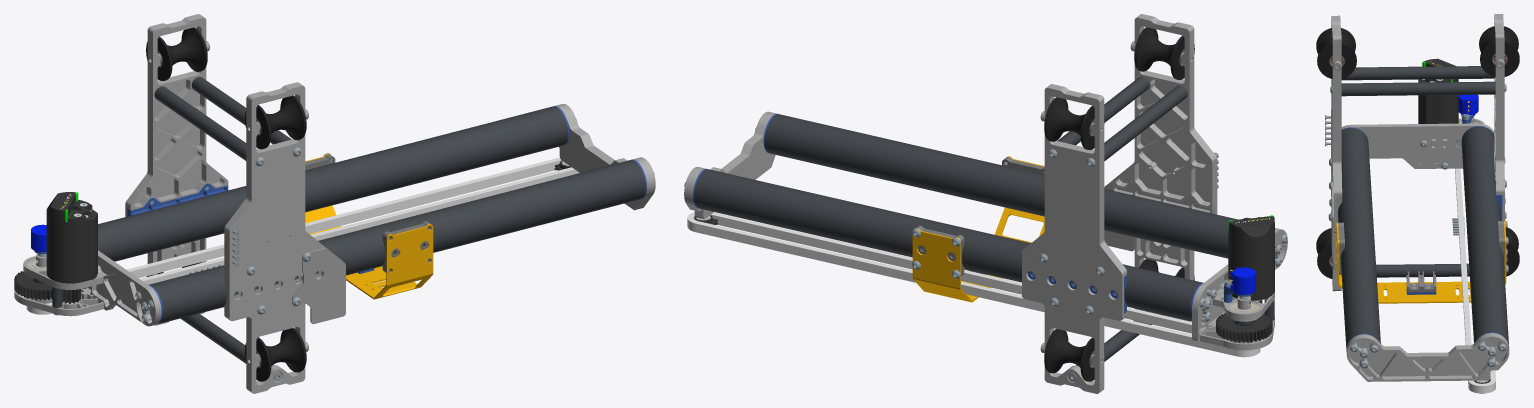
The picture shows the model from 3 angles, left to right: view 1: azimuth 30°, elevation 25°; view 2: azimuth 150°, elevation 25°; view 3: azimuth 270°, elevation 25°; orthographic projection. The views are drawn at different scales.
Parts seen in each view (by area): view 1: Linear Tube (×2), Carrige Plate R, Carrige Plate, Chain - 194 Links, Yoyo Roller Carrige (×3), Kraken X44 Brushless Motor, Cable Chain Support, Carrige Spacer (×3), Part 40, Rear Tie, Front tie, Backpack Gearbox Bottom (+3 smaller); view 2: Linear Tube (×2), Carrige Plate, Carrige Plate R, Chain - 194 Links, Yoyo Roller Carrige (×3), Cable Chain Support, Carrige Spacer (×3), Kraken X44 Brushless Motor, Front tie, Rear Tie, 40t Pocketed Steel Spur Gear (20 DP, 1/2" Hex Bore), Backpack Gearbox Bottom (+4 smaller); view 3: Linear Tube (×2), Front tie, Carrige Spacer (×3), Rear Tie, Yoyo Roller Carrige (×4), Carrige Plate R, Cable Chain Support, Carrige Plate, Kraken X44 Brushless Motor, Chain - 194 Links, Cable Chain Support Buddy Plate (×2), IGUS Chain Connector End (×2) (+2 smaller).
Boxes of the visible parts, x1=… form: Linear Tube (×2): x1=98, y1=106, x2=645, y2=323; Carrige Plate R: x1=224, y1=82, x2=325, y2=393; Carrige Plate: x1=125, y1=14, x2=228, y2=325; Chain - 194 Links: x1=26, y1=157, x2=579, y2=314; Yoyo Roller Carrige (×3): x1=146, y1=27, x2=306, y2=381; Kraken X44 Brushless Motor: x1=46, y1=192, x2=97, y2=283; Cable Chain Support: x1=305, y1=153, x2=433, y2=299; Carrige Spacer (×3): x1=154, y1=77, x2=291, y2=363; Part 40: x1=292, y1=248, x2=345, y2=324; Rear Tie: x1=84, y1=250, x2=161, y2=326; Front tie: x1=555, y1=104, x2=655, y2=210; Backpack Gearbox Bottom: x1=14, y1=288, x2=104, y2=316; Linear Tube (×2): x1=694, y1=114, x2=1237, y2=321; Carrige Plate: x1=1022, y1=84, x2=1126, y2=393; Carrige Plate R: x1=1112, y1=14, x2=1217, y2=321; Chain - 194 Links: x1=687, y1=212, x2=1260, y2=357; Yoyo Roller Carrige (×3): x1=1044, y1=27, x2=1194, y2=381; Cable Chain Support: x1=912, y1=156, x2=1044, y2=302; Carrige Spacer (×3): x1=1057, y1=76, x2=1187, y2=365; Kraken X44 Brushless Motor: x1=1228, y1=215, x2=1274, y2=300; Front tie: x1=684, y1=111, x2=776, y2=219; Rear Tie: x1=1192, y1=228, x2=1287, y2=341; 40t Pocketed Steel Spur Gear (20 DP, 1/2" Hex Bore): x1=1216, y1=313, x2=1272, y2=342; Backpack Gearbox Bottom: x1=1199, y1=316, x2=1274, y2=350; Linear Tube (×2): x1=1338, y1=126, x2=1508, y2=347; Front tie: x1=1346, y1=333, x2=1509, y2=381; Carrige Spacer (×3): x1=1341, y1=66, x2=1495, y2=277; Rear Tie: x1=1341, y1=123, x2=1494, y2=168; Yoyo Roller Carrige (×4): x1=1316, y1=26, x2=1519, y2=278; Carrige Plate R: x1=1331, y1=15, x2=1342, y2=291; Cable Chain Support: x1=1336, y1=220, x2=1506, y2=303; Carrige Plate: x1=1493, y1=14, x2=1504, y2=220; Kraken X44 Brushless Motor: x1=1418, y1=58, x2=1458, y2=123; Chain - 194 Links: x1=1455, y1=168, x2=1495, y2=393; Cable Chain Support Buddy Plate (×2): x1=1338, y1=220, x2=1504, y2=274; IGUS Chain Connector End (×2): x1=1406, y1=271, x2=1436, y2=292.
Size of the model in its own units: 0.6194 by 0.3055 by 0.2215.
